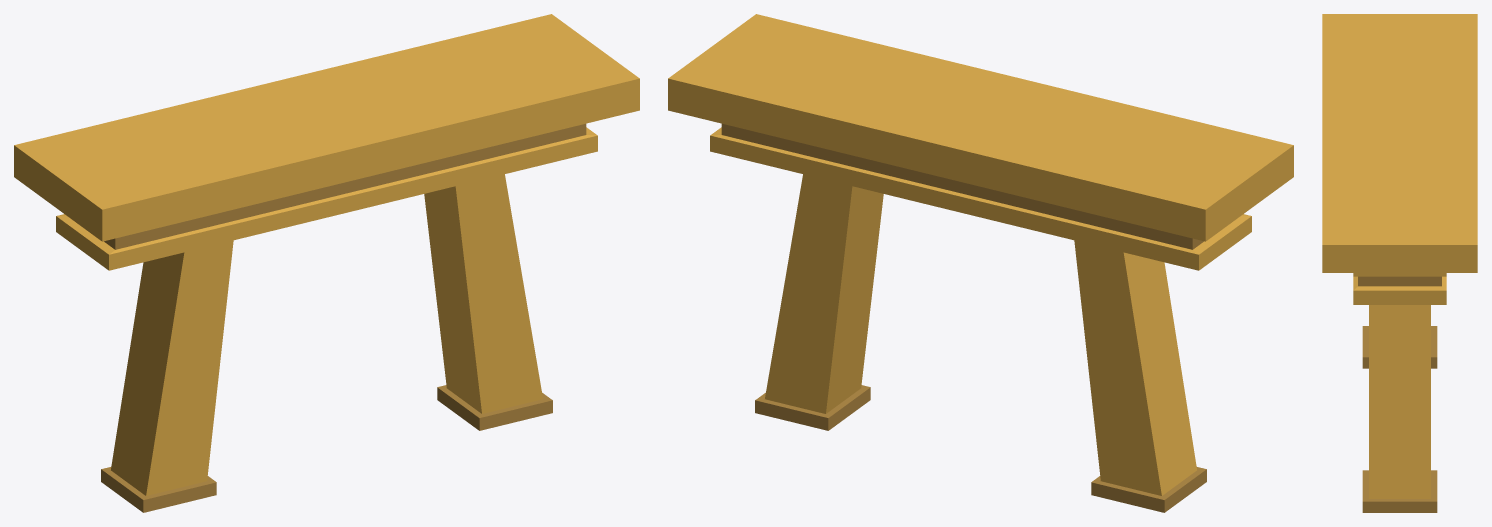
File: Egyptian Gateway.fbx
The picture shows the model from 3 angles, left to right: view 1: azimuth 30°, elevation 25°; view 2: azimuth 150°, elevation 25°; view 3: azimuth 270°, elevation 25°; orthographic projection. The views are drawn at different scales.
Visible parts, largest first — view 1: Egyptian Gateway; view 2: Egyptian Gateway; view 3: Egyptian Gateway.
Part boxes in pixels (left/top/right/bottom): Egyptian Gateway: left=14, top=14, right=639, bottom=512; Egyptian Gateway: left=668, top=14, right=1293, bottom=512; Egyptian Gateway: left=1322, top=14, right=1477, bottom=512.
Size of the model in its own units: 35.2 by 21 by 10.
